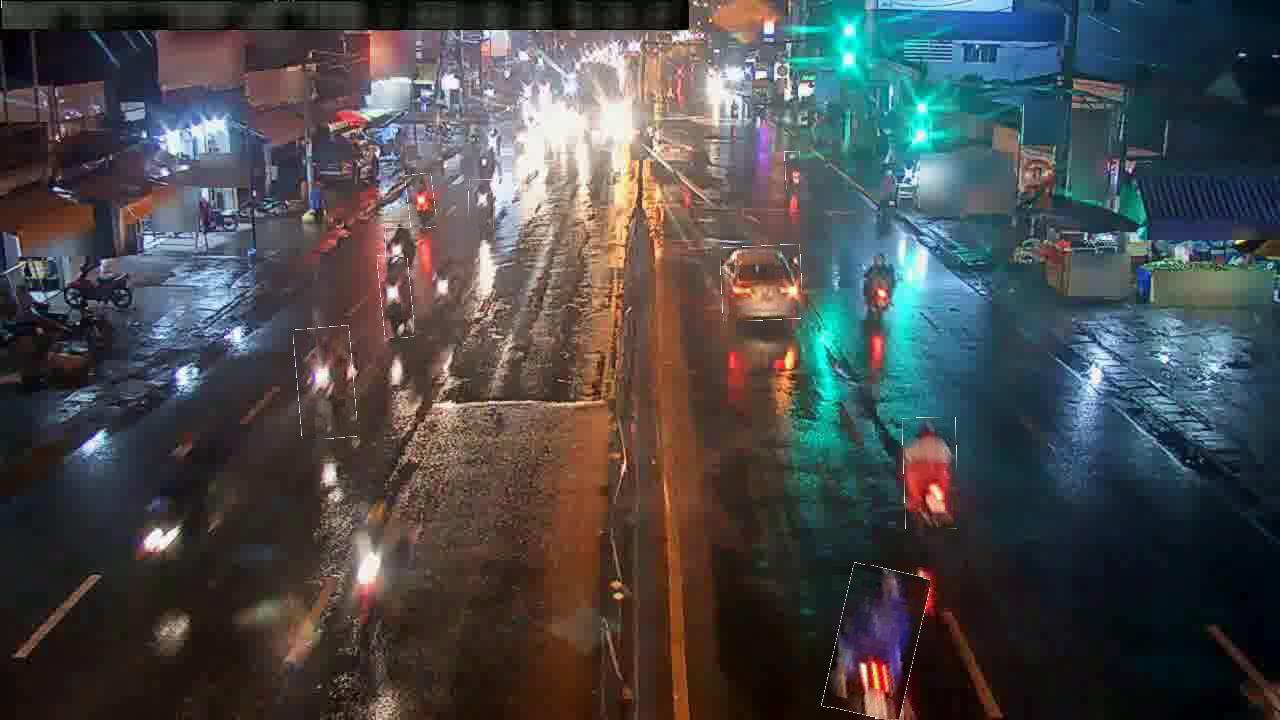car: (721, 245, 803, 321)
motorbike: (829, 566, 924, 720), (296, 326, 356, 439), (903, 418, 958, 530), (856, 247, 900, 315), (379, 254, 413, 339), (406, 174, 436, 229), (469, 179, 495, 230), (385, 227, 414, 258), (785, 151, 801, 190)
